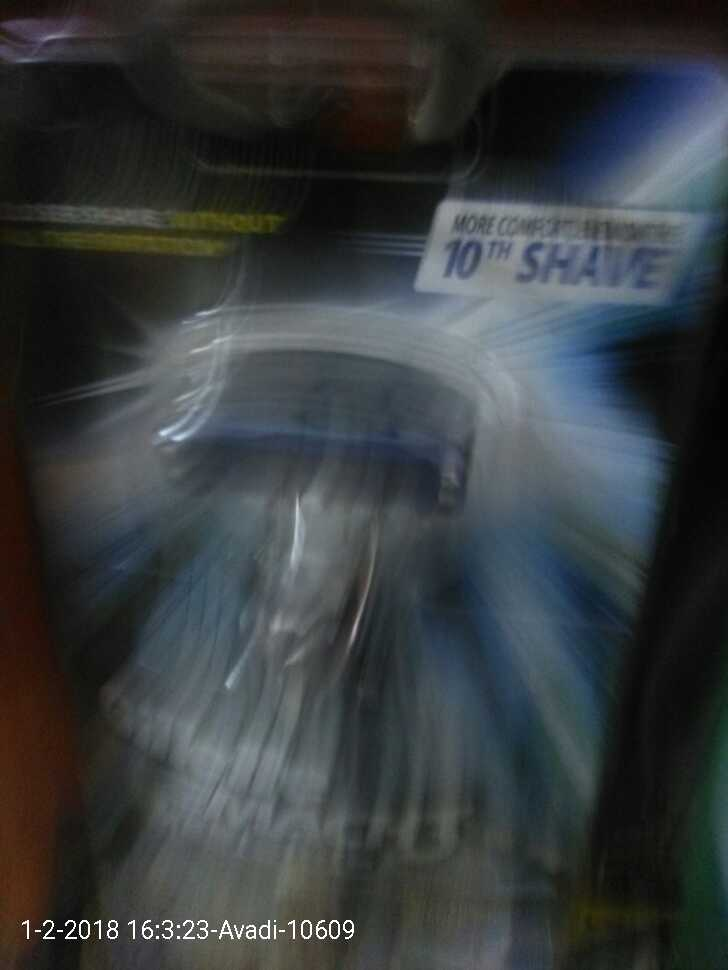reject: (162, 198, 515, 875)
